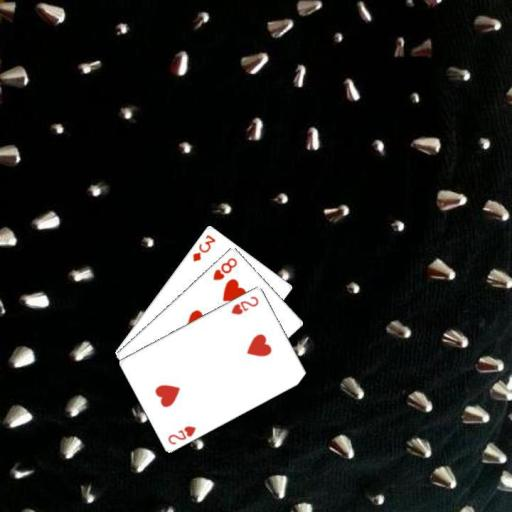2H: (165, 422, 198, 446), (228, 293, 260, 316)
3D: (189, 231, 217, 263)
8H: (210, 254, 239, 281)
